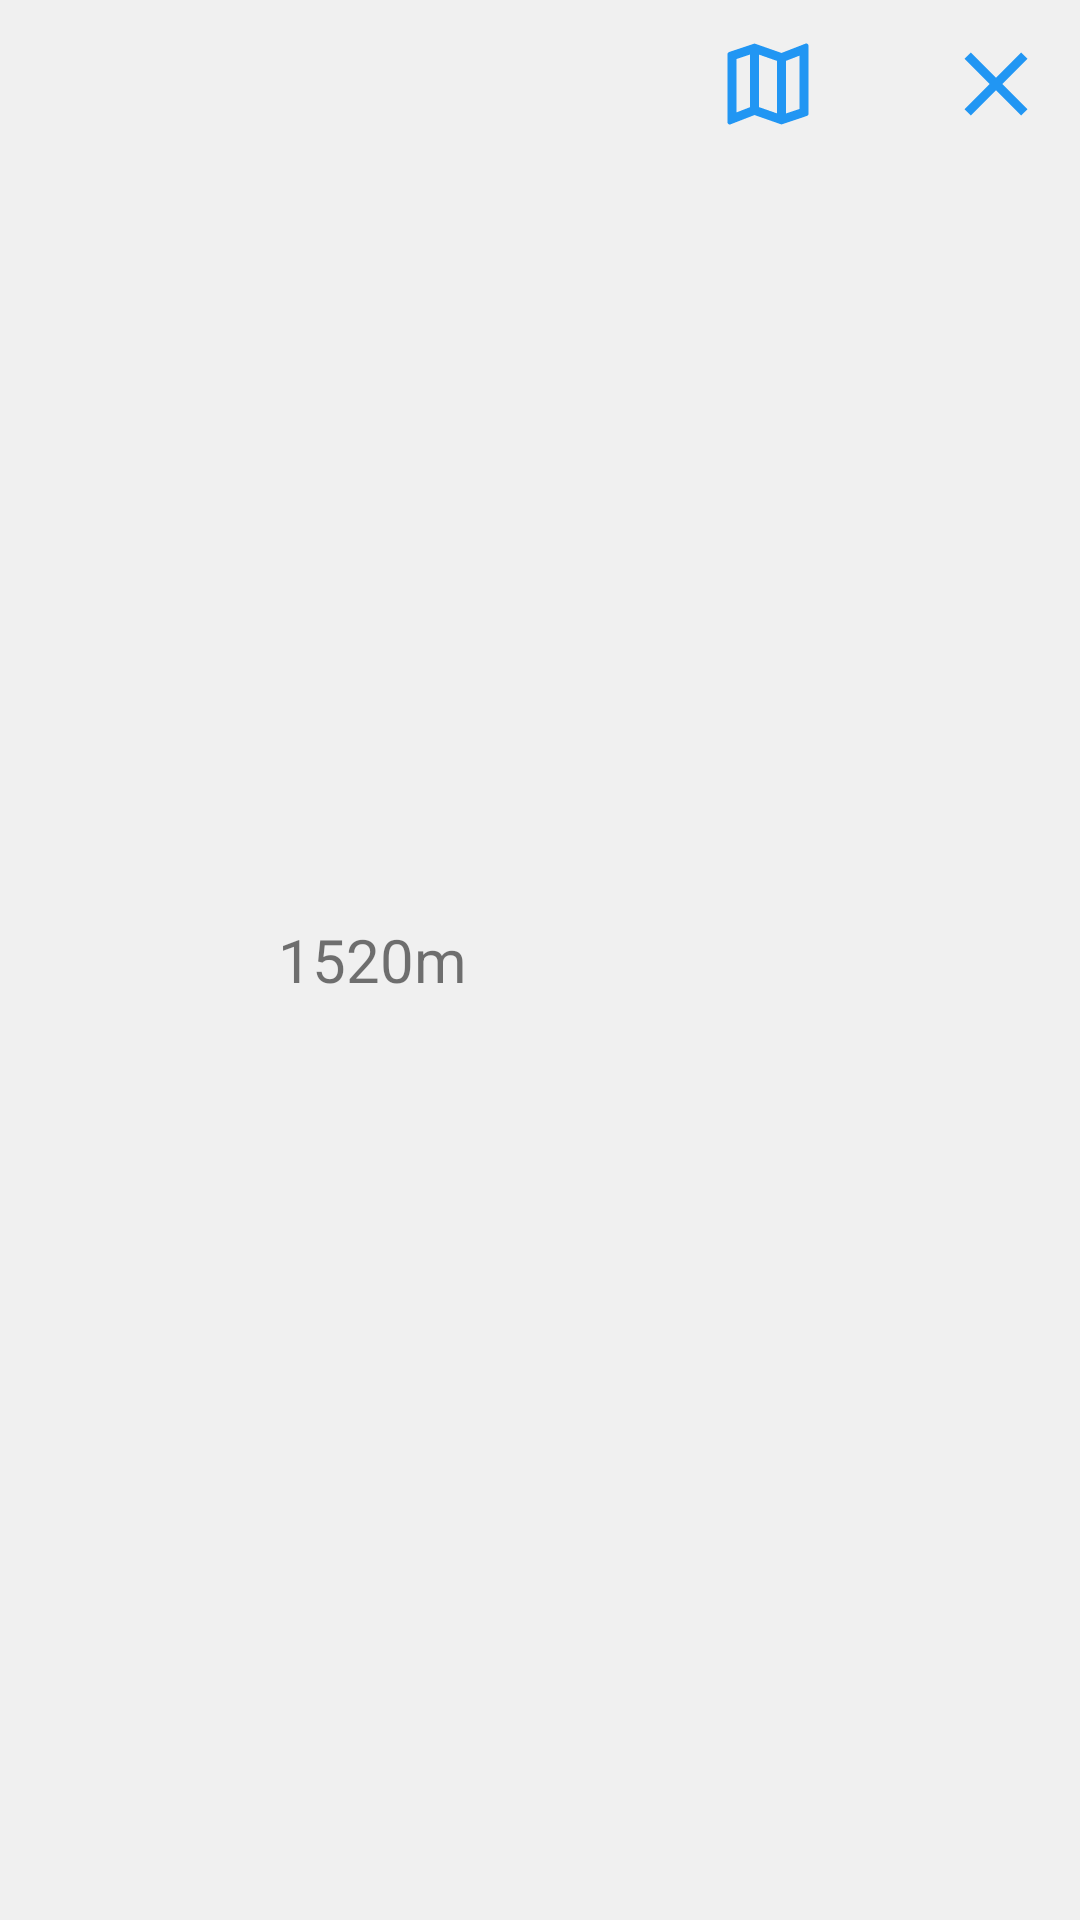

Where icons sit on this 1080px x 1920px app screen, as (x1, y1, x2, y2):
clear: (964, 52, 1028, 116)
map: (727, 43, 809, 125)
